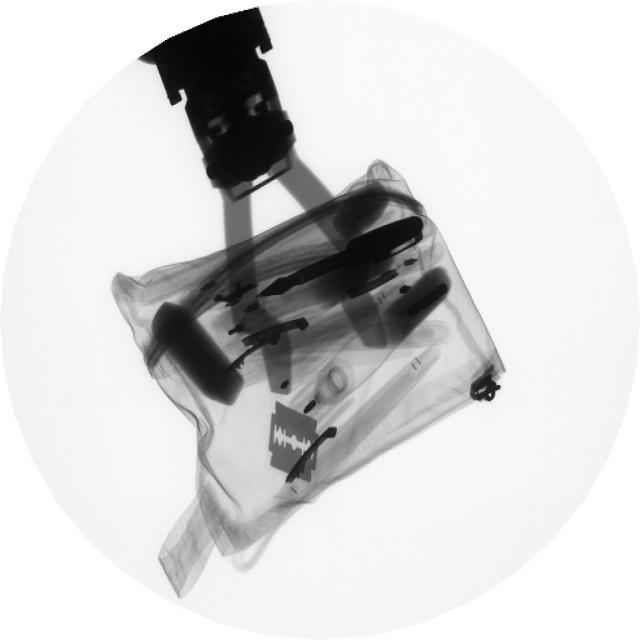BLADE: (264, 395, 330, 489)
